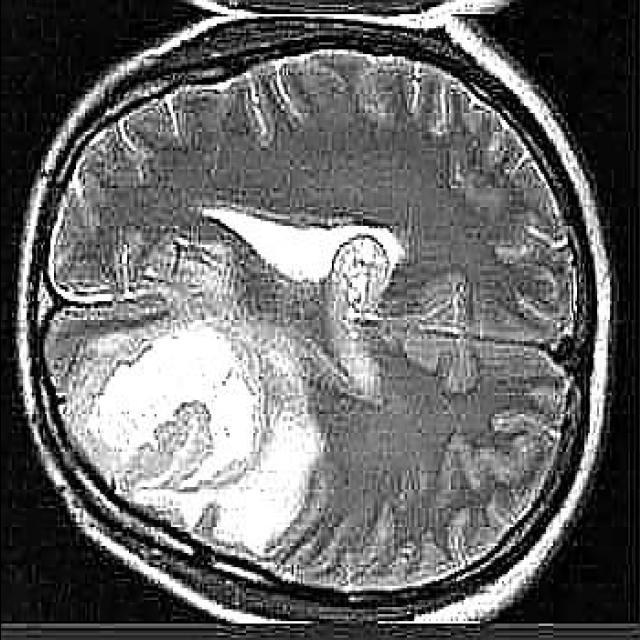tumor: (42, 301, 320, 562)
